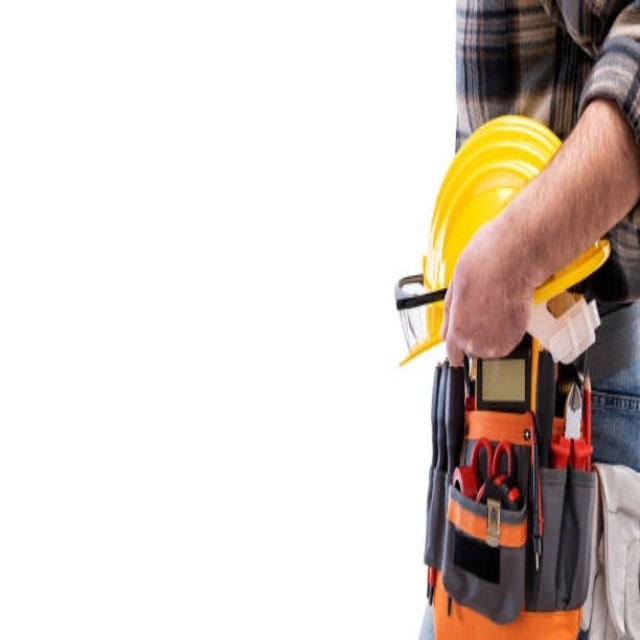Sin_guantes: (437, 203, 548, 368)
